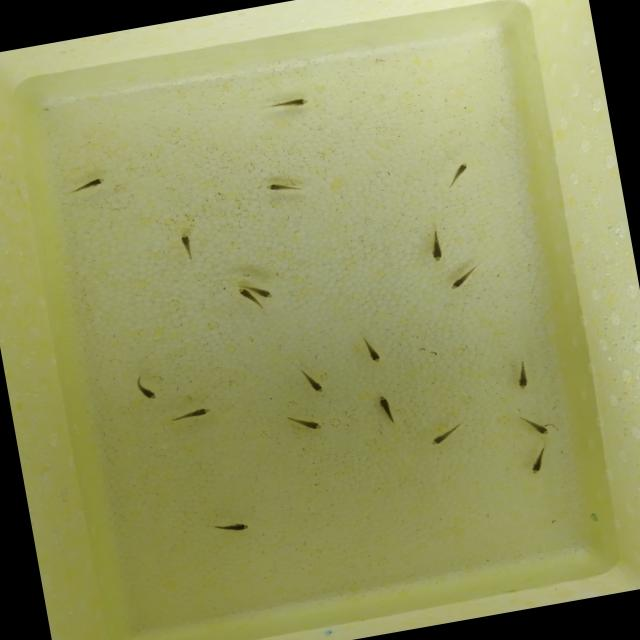fingerling: (194, 509, 258, 544), (272, 402, 326, 438), (421, 414, 474, 450), (512, 440, 558, 480), (60, 170, 120, 200), (250, 172, 310, 202), (167, 398, 224, 428), (417, 222, 454, 268), (511, 405, 555, 443), (437, 262, 488, 294), (504, 349, 540, 394), (166, 227, 207, 266), (353, 328, 389, 372), (259, 90, 315, 118), (126, 369, 166, 408), (369, 388, 404, 432), (290, 359, 329, 398), (440, 156, 480, 193), (230, 283, 253, 302), (254, 286, 276, 302)
